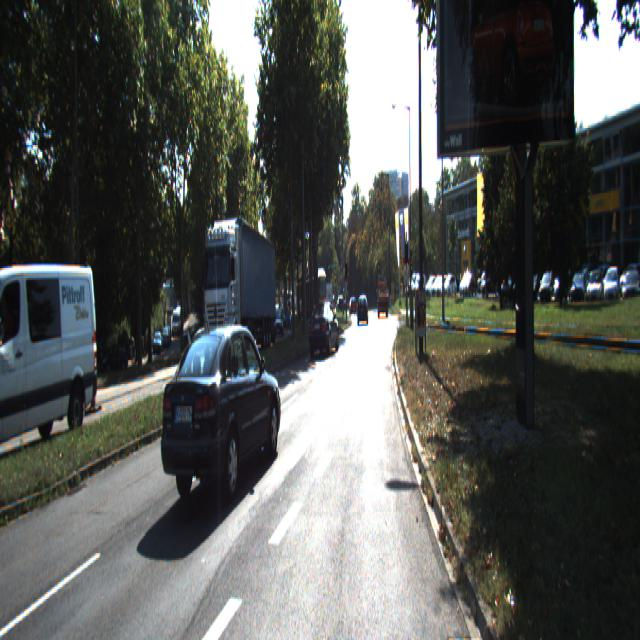Car: (158, 312, 282, 514), (0, 258, 100, 469), (202, 216, 277, 373), (308, 302, 340, 357), (296, 271, 328, 321), (377, 282, 389, 318), (358, 296, 368, 325)
